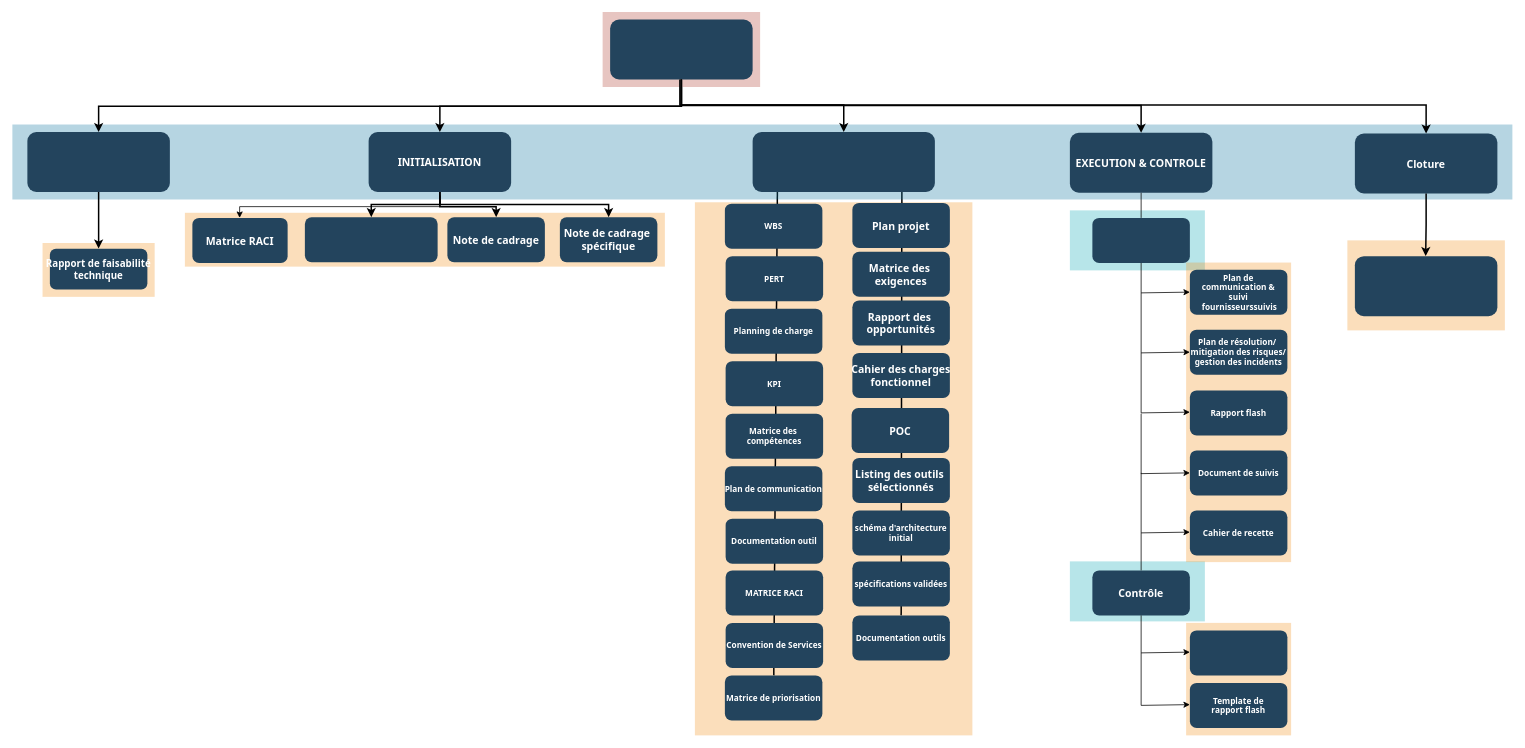
Image size: 1525x748. Some labels were removed from this diagram. Each missing label, with the centre of its shape:
AVANT PROJET: point (98, 162)
Bilan de projet: point (1425, 286)
Comptes rendus de comités: point (1238, 652)
Execution: point (1141, 240)
PLANIFICATION: point (843, 162)
Projet EFFICIEO: point (681, 49)
Registre des risques: point (370, 239)
